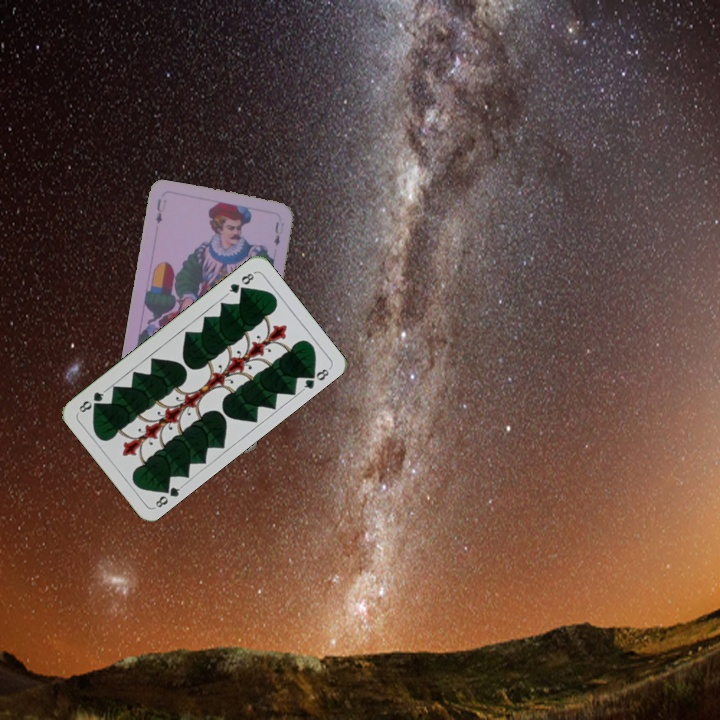EU: (152, 195, 169, 226)
G8: (151, 480, 186, 511), (223, 268, 258, 298)
